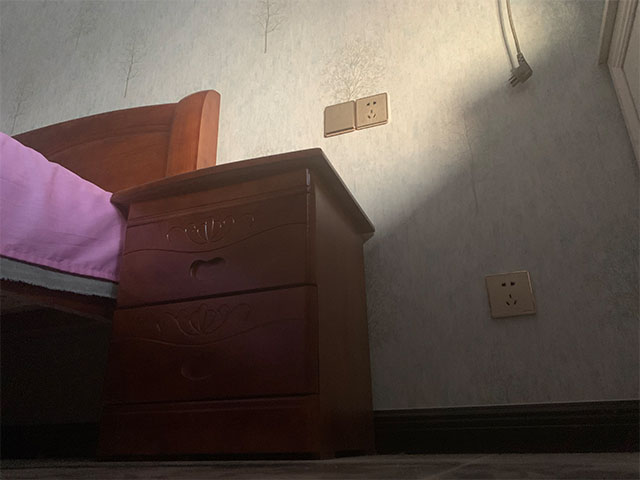bed: (2, 88, 224, 326)
cabinet: (94, 146, 380, 462)
